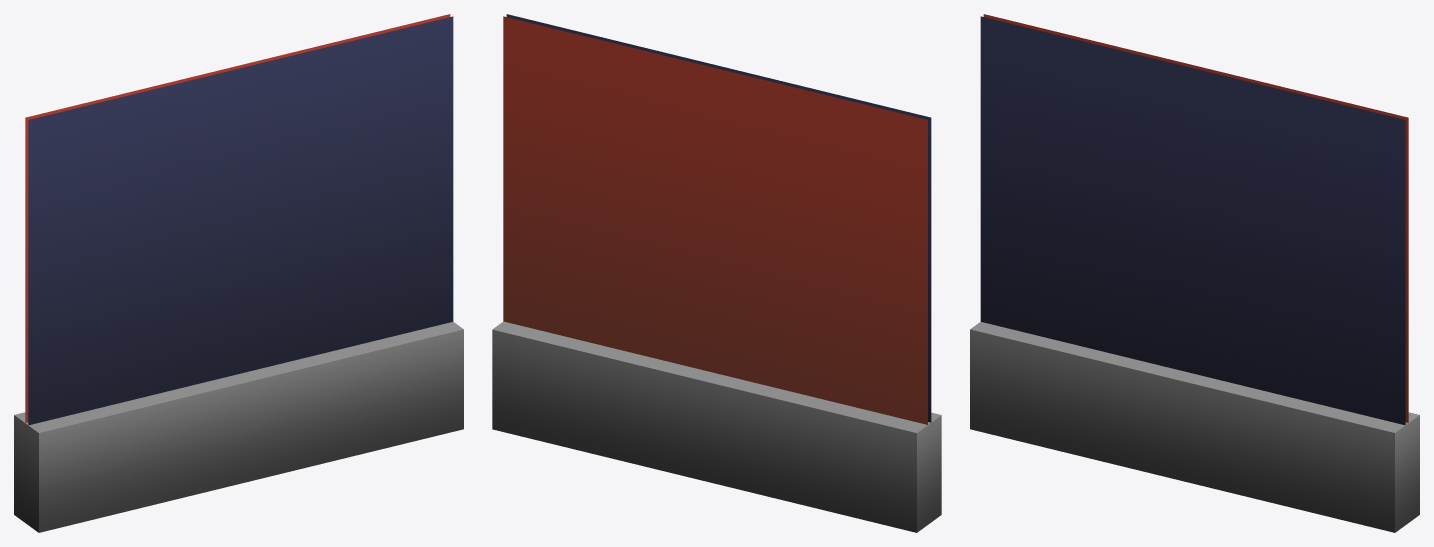
Rendered from Museum_Wall_Blue.fbx.
3 views of the same model, side by side, from view 1: azimuth 30°, elevation 25°; view 2: azimuth 150°, elevation 25°; view 3: azimuth 330°, elevation 25° (orthographic).
Visible parts, largest first — view 1: Plane, Cube; view 2: Plane, Cube; view 3: Plane, Cube.
Boxes of the visible parts, box(x1,y1,x2,y2) form: Plane: box(25, 14, 453, 425); Cube: box(14, 321, 463, 532); Plane: box(503, 14, 931, 424); Cube: box(492, 321, 941, 532); Plane: box(980, 14, 1408, 425); Cube: box(970, 321, 1419, 532).
Bounding box in the file's own units: 2 × 1.82 × 0.202.
